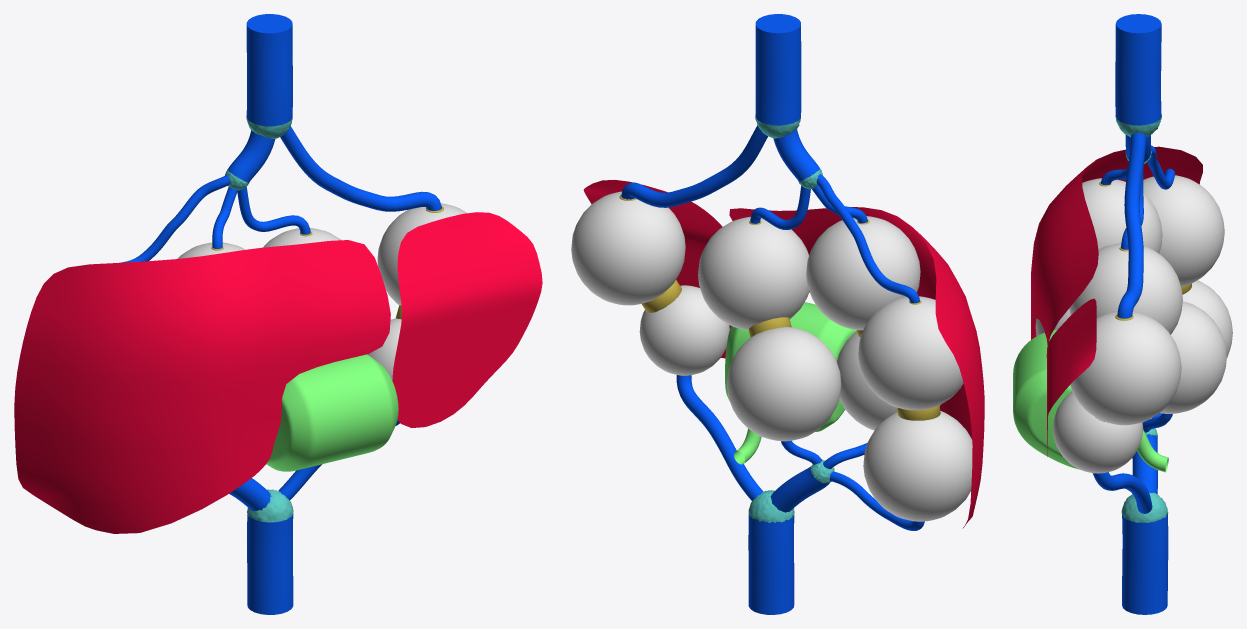
File: wątroba4.glb
3 renders of one model, left to right at view 1: azimuth 30°, elevation 25°; view 2: azimuth 150°, elevation 25°; view 3: azimuth 270°, elevation 25°, orthographic.
Visible parts, largest first — view 1: osłona, żyła, woreczek, filtry, rozdzielacze; view 2: filtry, żyła, osłona, woreczek, rozdzielacze, uszczelki; view 3: filtry, żyła, osłona, woreczek, rozdzielacze.
Part boxes in pixels (x1,y1,x2,y2): osłona: (14, 212, 542, 533); żyła: (121, 14, 441, 614); woreczek: (266, 354, 398, 471); filtry: (177, 203, 467, 380); rozdzielacze: (225, 116, 293, 522); filtry: (571, 191, 972, 521); żyła: (621, 14, 924, 614); osłona: (583, 179, 984, 528); woreczek: (725, 302, 856, 464); rozdzielacze: (748, 114, 834, 522); uszczelki: (619, 194, 940, 420); filtry: (1035, 175, 1232, 473); żyła: (1092, 14, 1175, 614); osłona: (1031, 146, 1202, 456); woreczek: (1013, 329, 1168, 472); rozdzielacze: (1115, 115, 1168, 522).
Size of the model in its own units: 1.6 by 1.96 by 0.6748.
